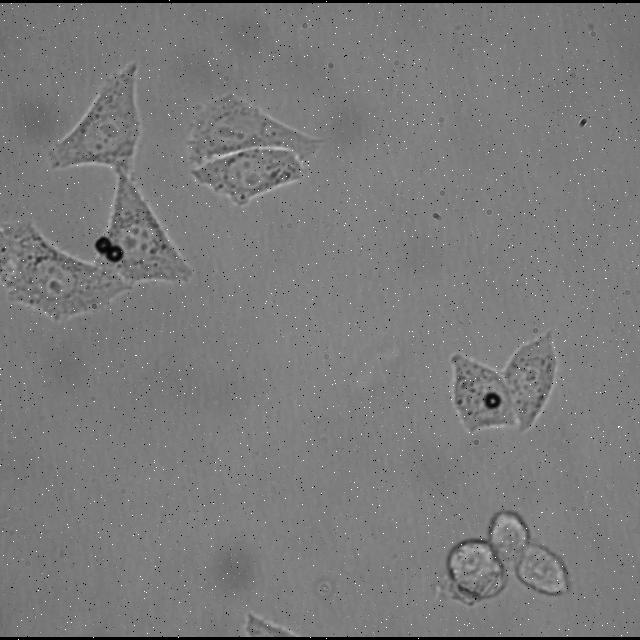microbeads: (482, 388, 504, 414), (108, 244, 128, 264), (92, 234, 110, 256)
